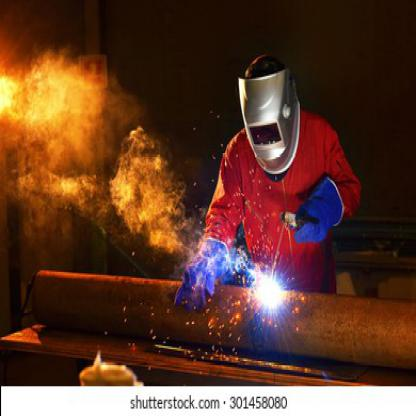with_gloves: (172, 236, 231, 314), (292, 175, 345, 244)
